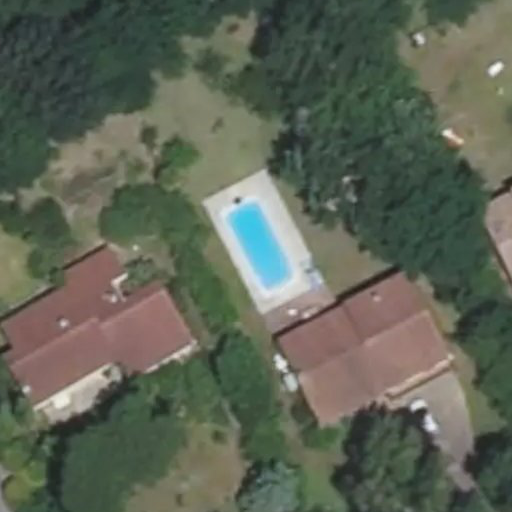pool: (227, 200, 294, 290)
